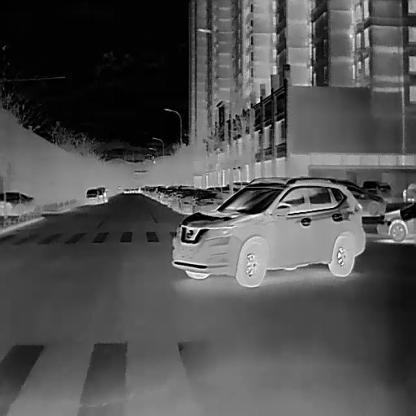car: (172, 176, 366, 286), (333, 180, 386, 215), (0, 189, 35, 217), (192, 189, 223, 220), (173, 184, 193, 213), (178, 188, 193, 215), (85, 188, 102, 206), (96, 185, 109, 204), (152, 186, 166, 201), (160, 189, 171, 204), (166, 193, 173, 210)
